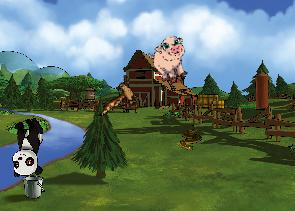eagle: (98, 70, 144, 124)
panda: (11, 117, 43, 177)
pig: (145, 33, 195, 85)
